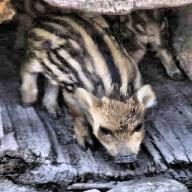boar: (0, 0, 156, 166)
